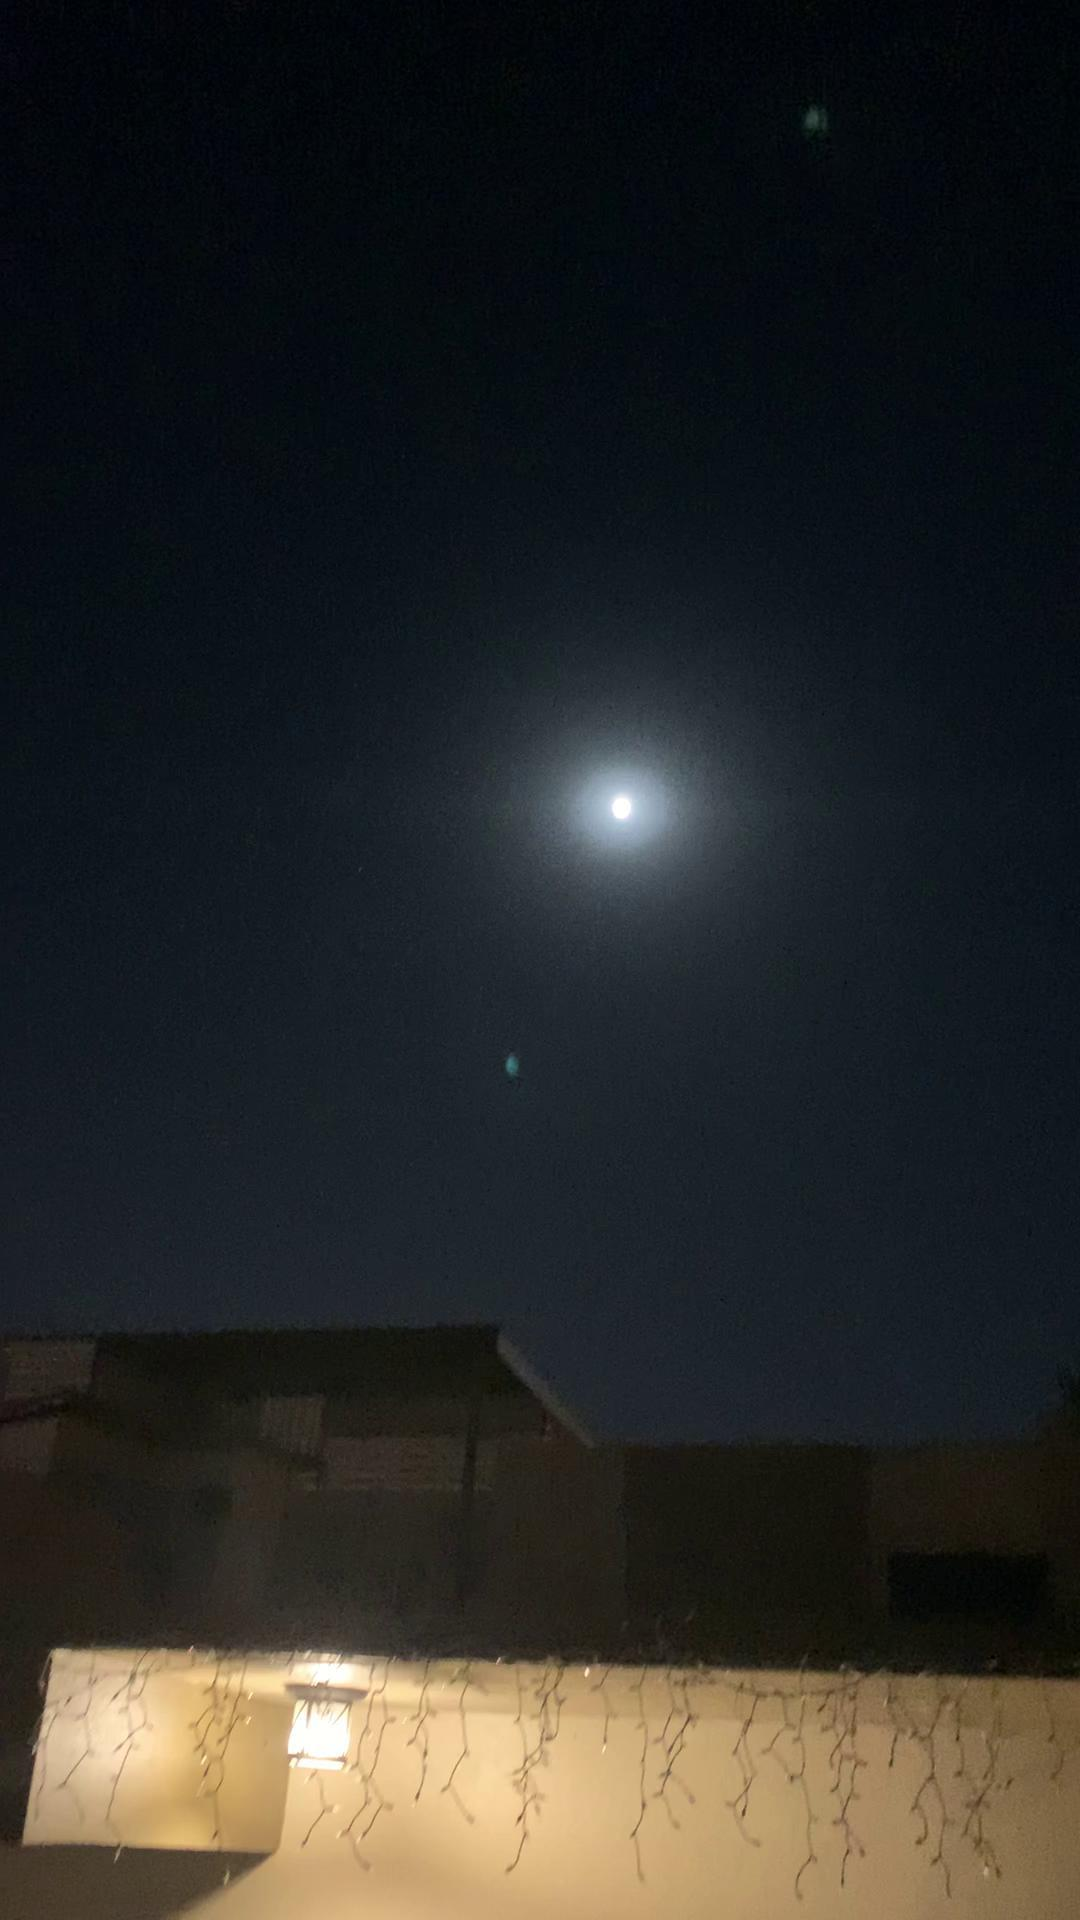moon: (571, 769, 658, 848)
